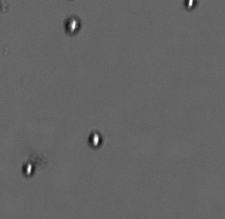Living Cell: (63, 14, 83, 36), (85, 129, 103, 150), (20, 159, 36, 178), (182, 1, 198, 11)
